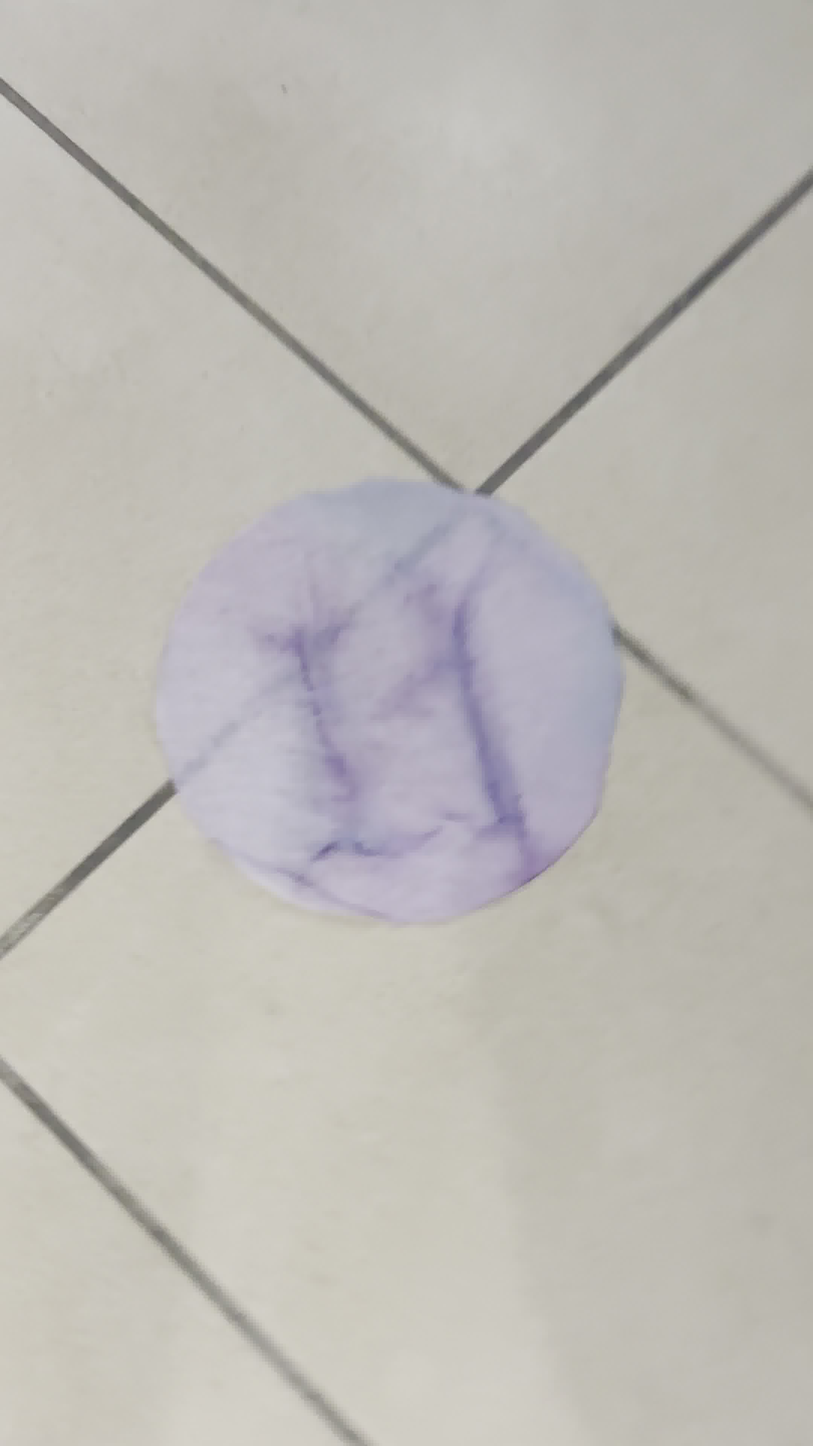Target: (156, 481, 623, 930)
